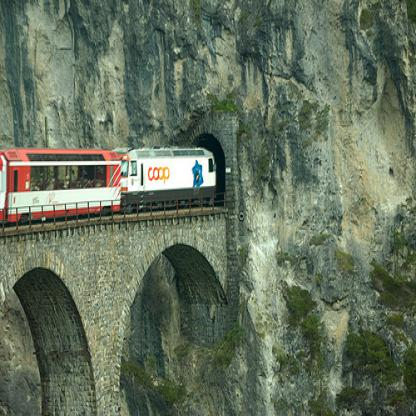train: (0, 145, 217, 227)
